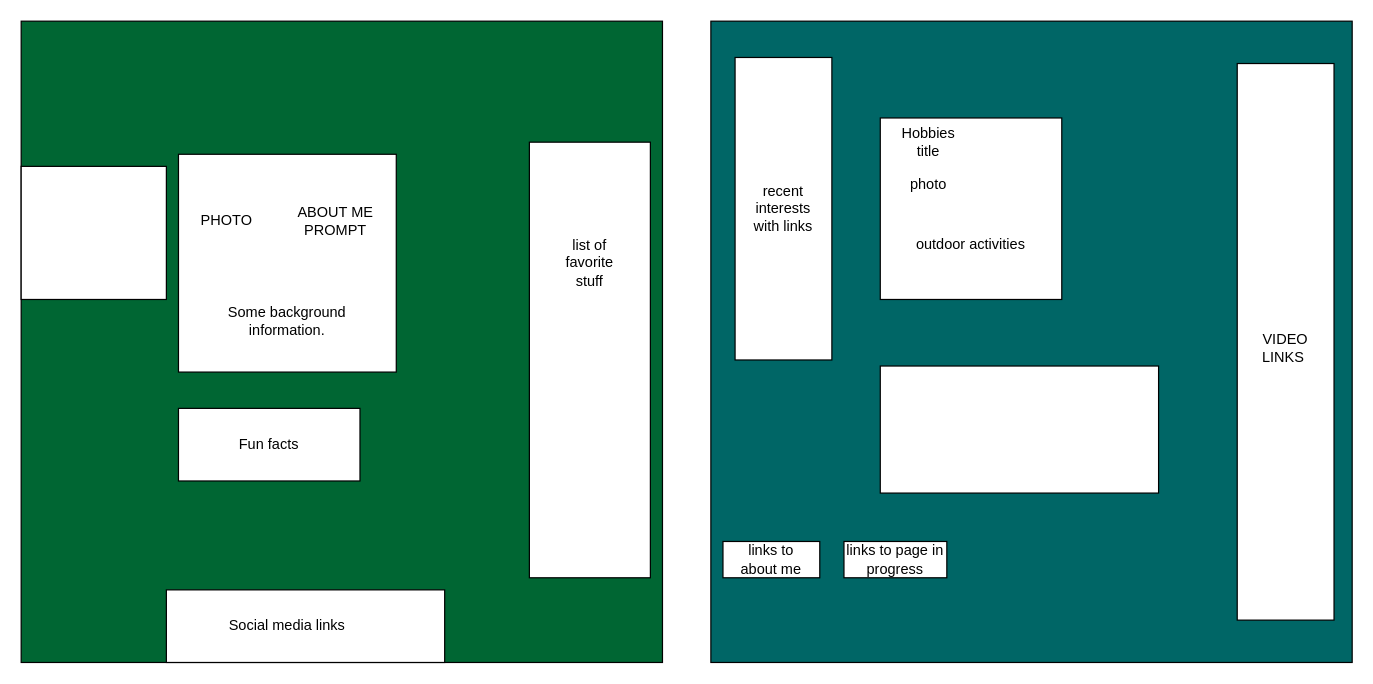
Some shapes in this 1373 by 684 pixel diagram are drawn without their labels. Each missing label, with the centre of its shape:
"indoor activities" goes at point 1019,429.
"links to other pages" goes at point 93,232.
